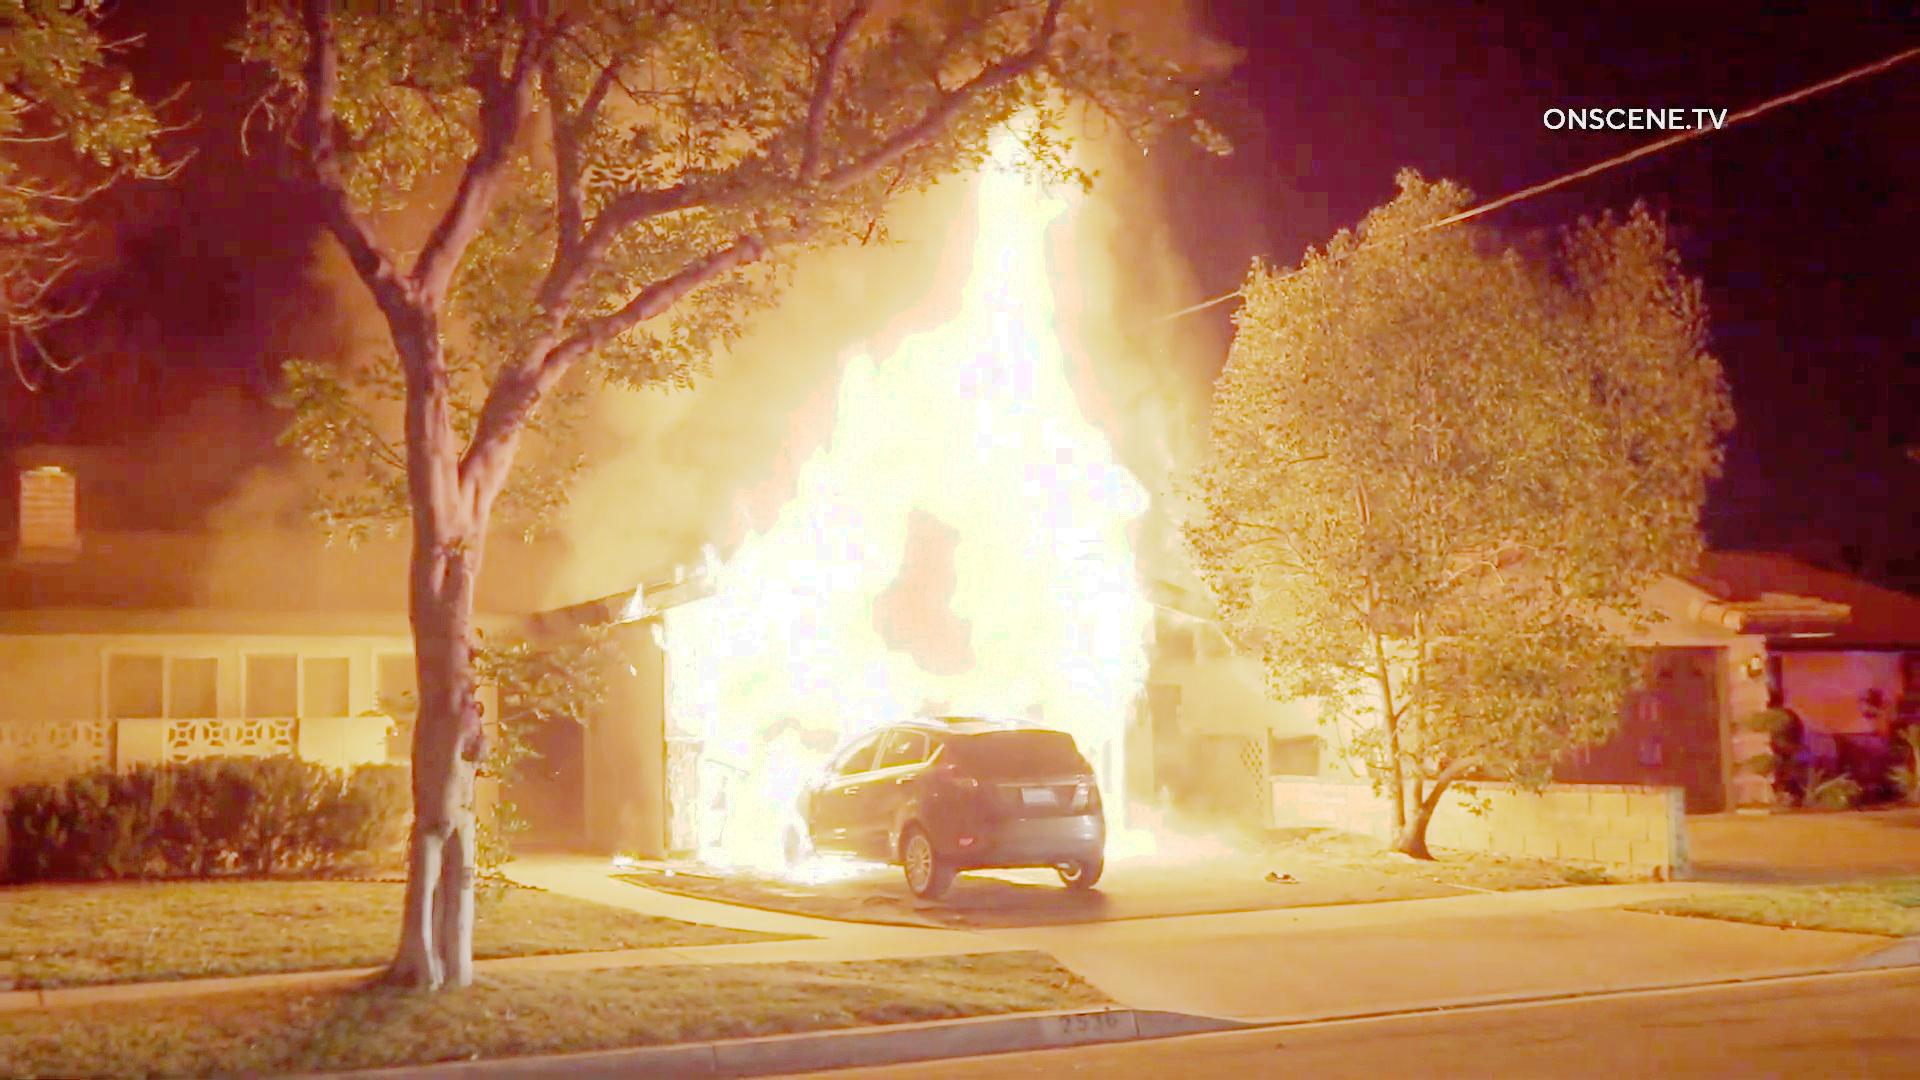fire: (713, 353, 1155, 680), (862, 123, 1068, 712), (675, 593, 800, 868)
smoke: (517, 407, 655, 587), (1091, 108, 1213, 307)
